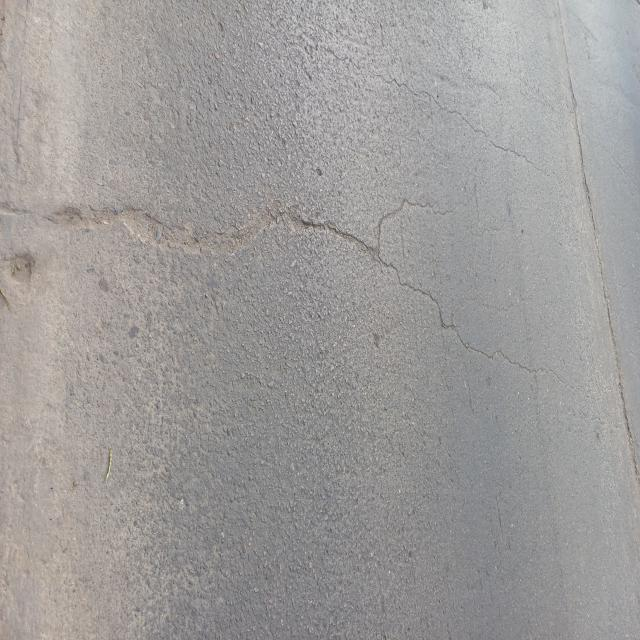GRIETA: (558, 0, 639, 487), (378, 258, 561, 380), (0, 203, 359, 253), (380, 76, 538, 168), (376, 198, 434, 256)
